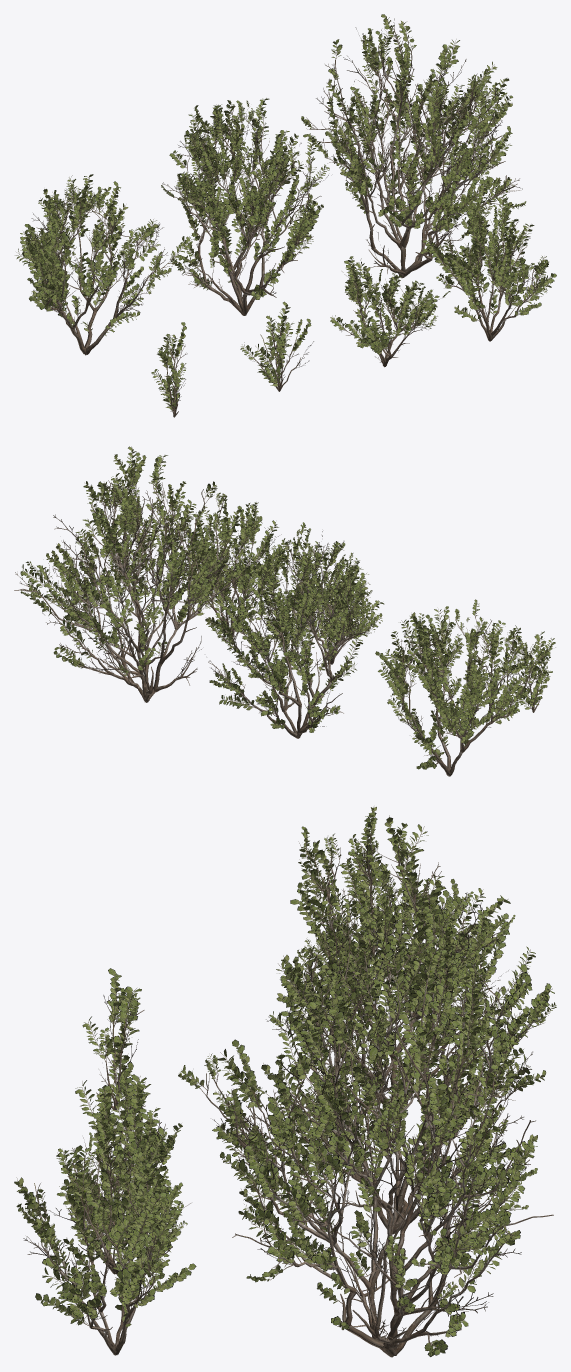
The model's file is searsia_lucida.glb.
3 views of the same model, one above another, from view 1: azimuth 30°, elevation 25°; view 2: azimuth 150°, elevation 25°; view 3: azimuth 270°, elevation 25° (orthographic). The views are drawn at different scales.
Parts seen in each view (by area): view 1: searsia_lucida_a_LOD0, searsia_lucida_b_LOD0, searsia_lucida_c_LOD0, searsia_lucida_d_LOD0, searsia_lucida_e_LOD0, searsia_lucida_f_LOD0, searsia_lucida_g_LOD0; view 2: searsia_lucida_a_LOD0, searsia_lucida_b_LOD0, searsia_lucida_c_LOD0, searsia_lucida_d_LOD0, searsia_lucida_e_LOD0, searsia_lucida_g_LOD0, searsia_lucida_f_LOD0; view 3: searsia_lucida_a_LOD0, searsia_lucida_b_LOD0, searsia_lucida_d_LOD0, searsia_lucida_c_LOD0, searsia_lucida_e_LOD0, searsia_lucida_g_LOD0, searsia_lucida_f_LOD0.
Boxes of the visible parts, x1,y1,x2,y2 form: searsia_lucida_a_LOD0: (301, 14, 526, 278); searsia_lucida_b_LOD0: (161, 98, 329, 315); searsia_lucida_c_LOD0: (15, 174, 196, 355); searsia_lucida_d_LOD0: (422, 179, 556, 341); searsia_lucida_e_LOD0: (330, 256, 450, 367); searsia_lucida_f_LOD0: (240, 301, 313, 391); searsia_lucida_g_LOD0: (151, 322, 187, 417); searsia_lucida_a_LOD0: (14, 446, 268, 702); searsia_lucida_b_LOD0: (205, 522, 372, 738); searsia_lucida_c_LOD0: (375, 599, 555, 776); searsia_lucida_d_LOD0: (176, 494, 294, 636); searsia_lucida_e_LOD0: (283, 566, 384, 664); searsia_lucida_g_LOD0: (509, 630, 552, 712); searsia_lucida_f_LOD0: (400, 612, 463, 682); searsia_lucida_a_LOD0: (178, 951, 553, 1357); searsia_lucida_b_LOD0: (266, 877, 556, 1234); searsia_lucida_d_LOD0: (14, 1107, 196, 1355); searsia_lucida_c_LOD0: (276, 807, 515, 1111); searsia_lucida_e_LOD0: (48, 1071, 182, 1274); searsia_lucida_g_LOD0: (82, 968, 144, 1109); searsia_lucida_f_LOD0: (75, 1076, 164, 1191).
Size of the model in its own units: 4.78 by 2.34 by 2.84.
Materials: 2 (2 with a texture image).
